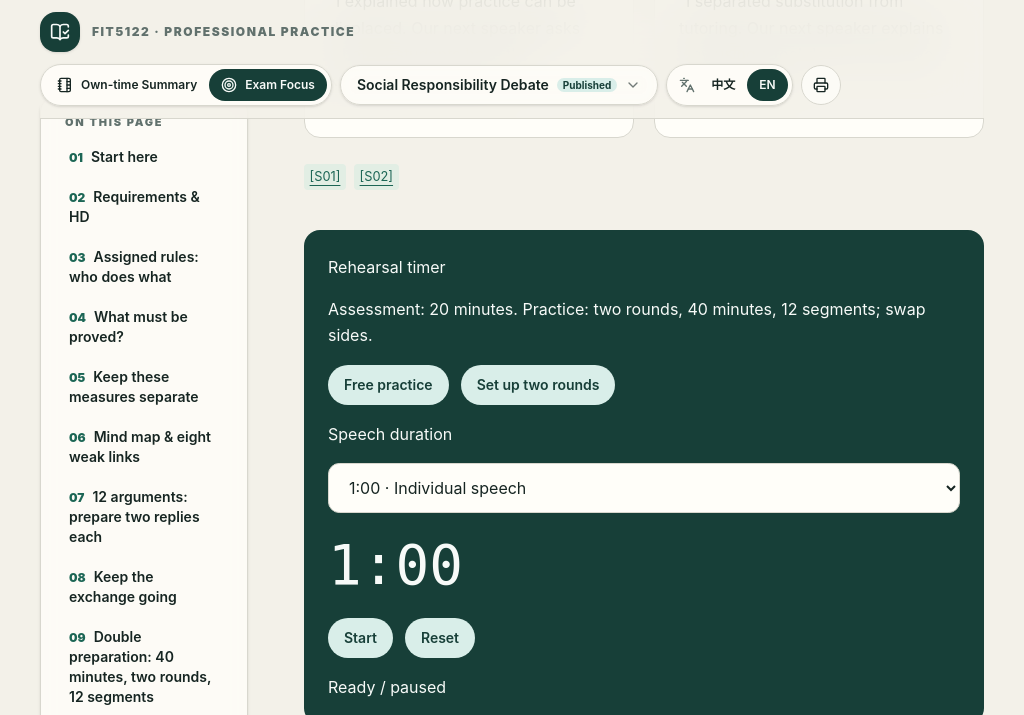
Test: offers a 40-minute, 12-segment rehearsal without changing the assessed timings
The image size is (1024, 715).
(page scrolled)
Expected: the text named "Time remaining" reads "1:00", top-left (328, 532), bottom-right (463, 597)
Click the button "Set up two rounds" at x=538, y=385, box top-left (461, 365), bottom-right (616, 405)
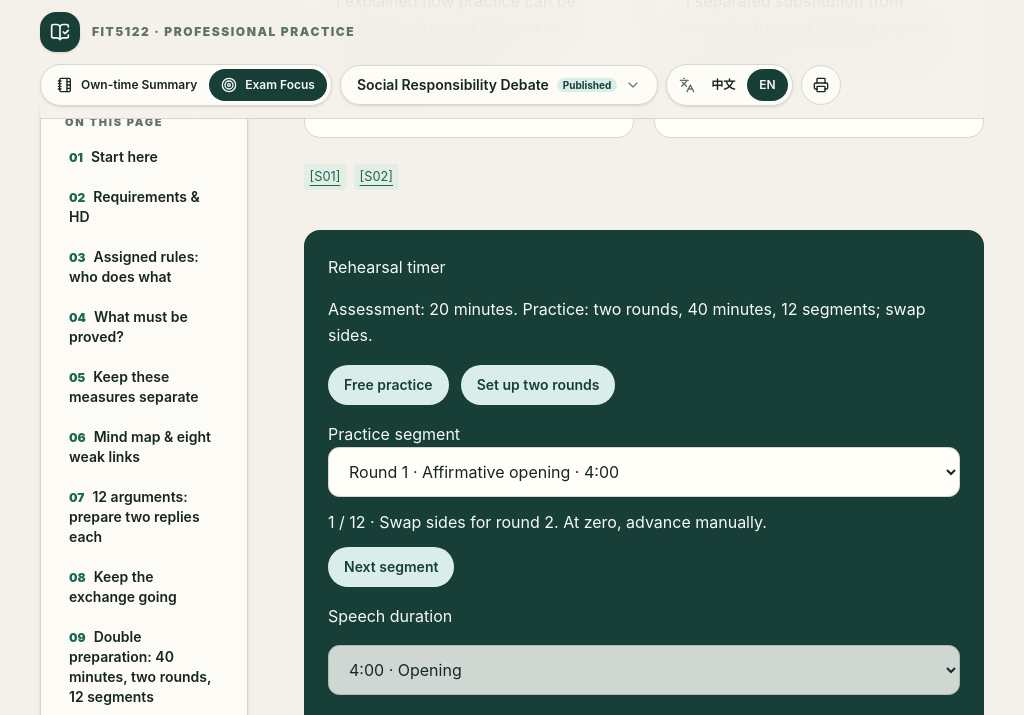
Expected: the dropdown labelled "Speech duration" is disabled, top-left (328, 646), bottom-right (960, 695)
Select "Round 2 · Affirmative opening · 4:00" in the dropdown labelled "Practice segment" at x=644, y=472, box top-left (328, 447), bottom-right (960, 497)
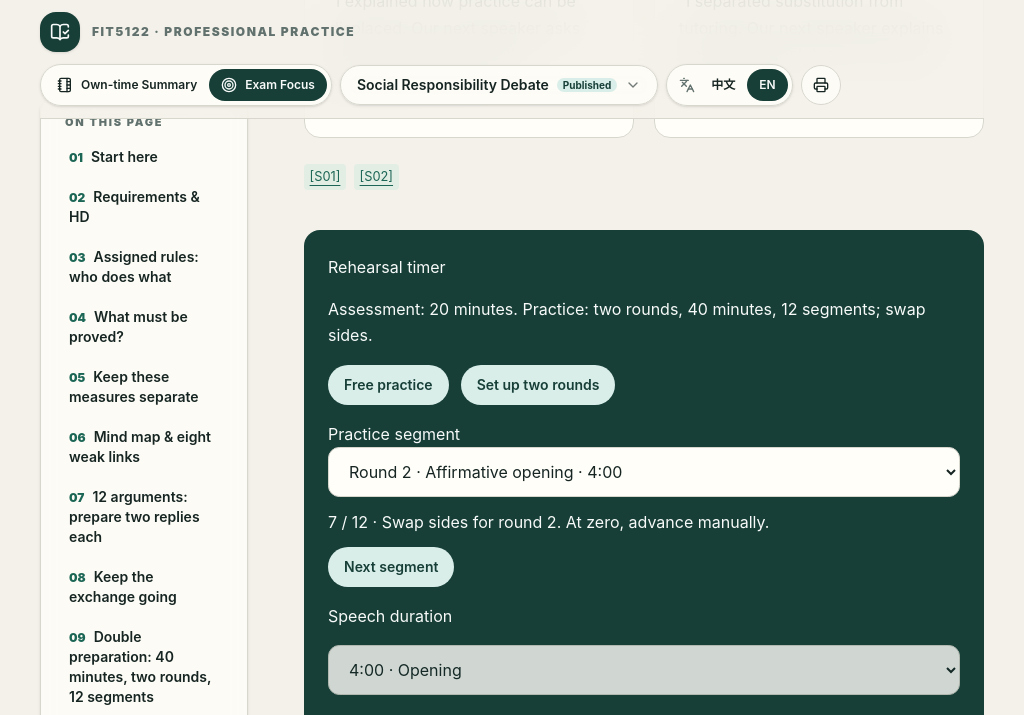
Click the button "Next segment" at x=391, y=567, box top-left (328, 547), bottom-right (454, 587)
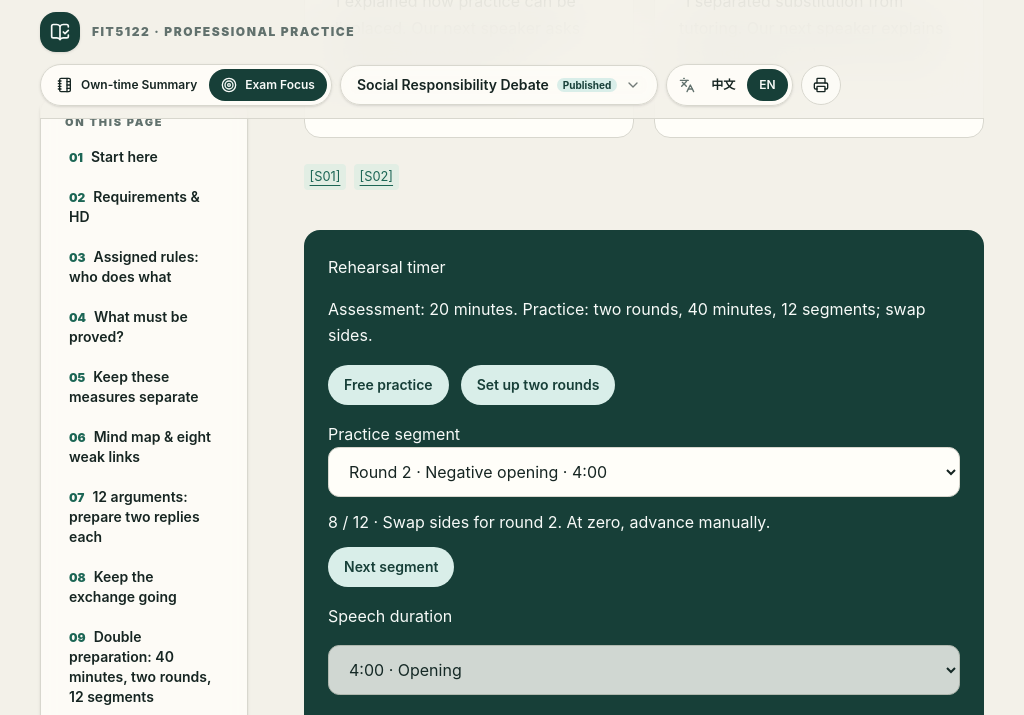
Select "Round 2 · Negative closing · 3:00" in the dropdown labelled "Practice segment" at x=644, y=472, box top-left (328, 447), bottom-right (960, 497)
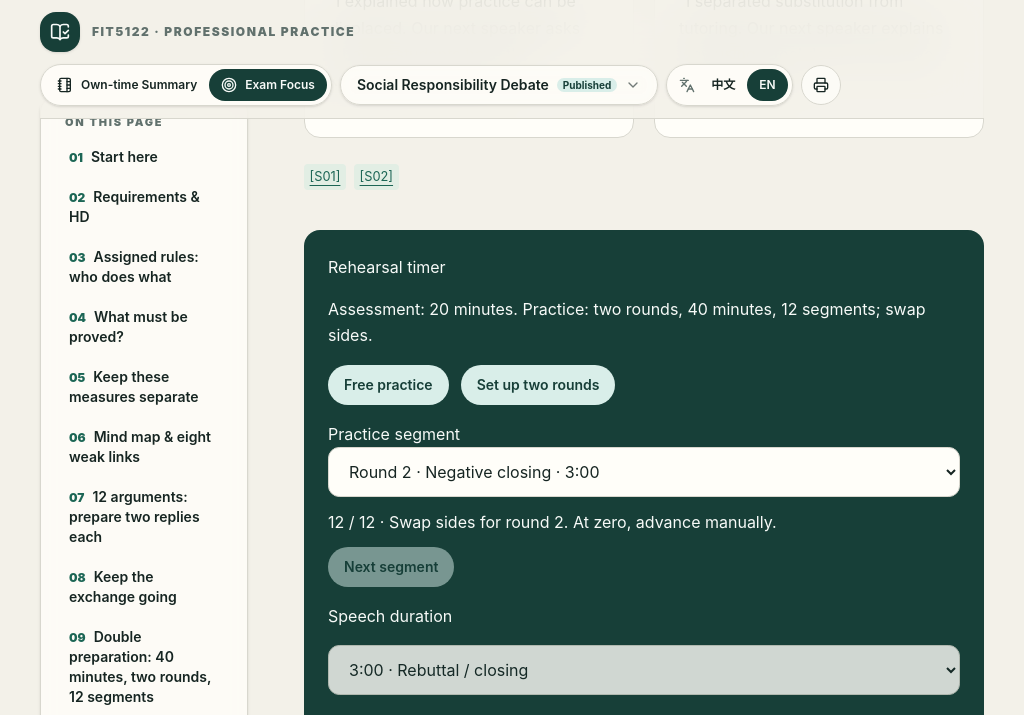
Expected: the button "Next segment" is disabled, top-left (328, 547), bottom-right (454, 587)
Click the button "Free practice" at x=388, y=385, box top-left (328, 365), bottom-right (449, 405)
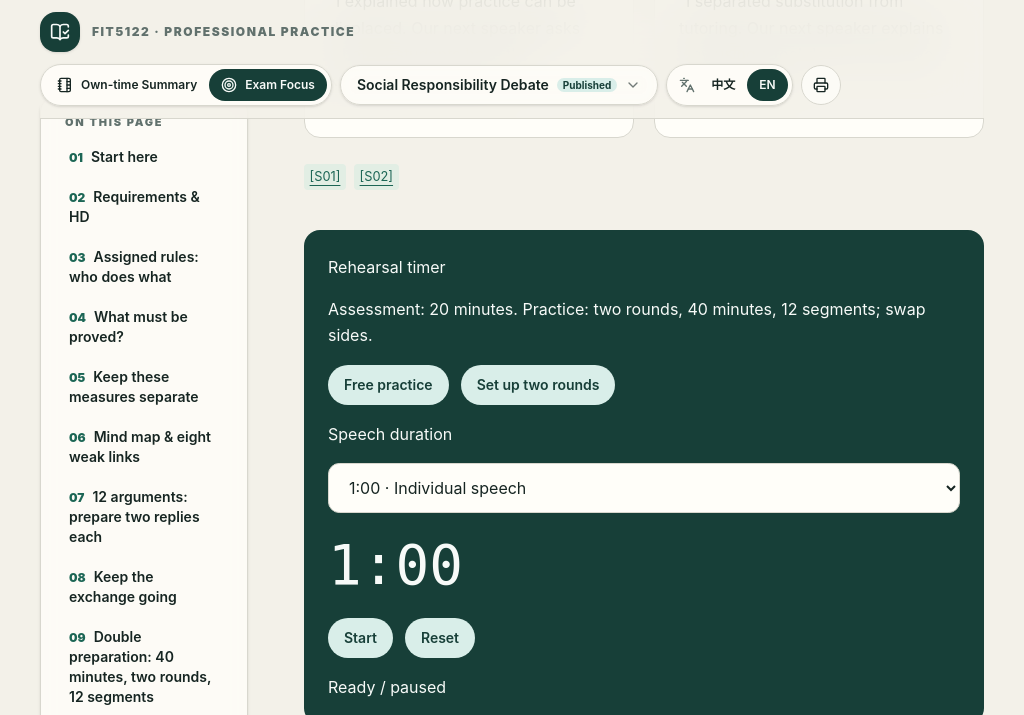
Expected: the dropdown labelled "Speech duration" is enabled, top-left (328, 463), bottom-right (960, 513)
Expected: the text named "Time remaining" reads "1:00", top-left (328, 532), bottom-right (463, 597)
